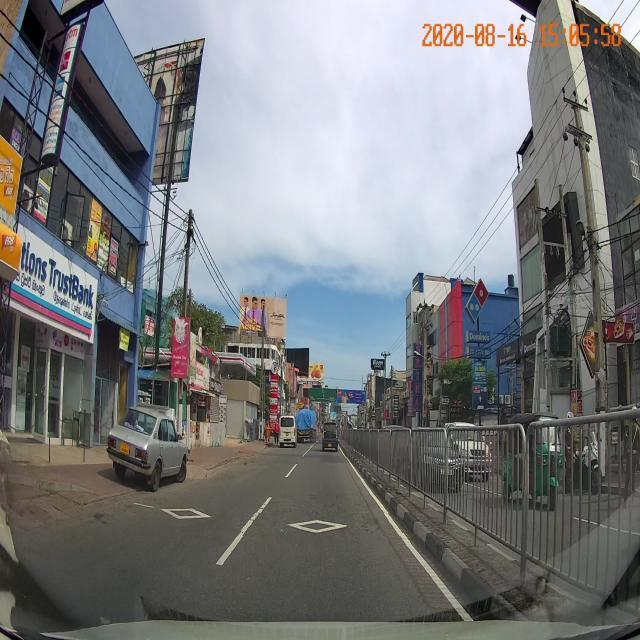diamond: (242, 513, 403, 536)
